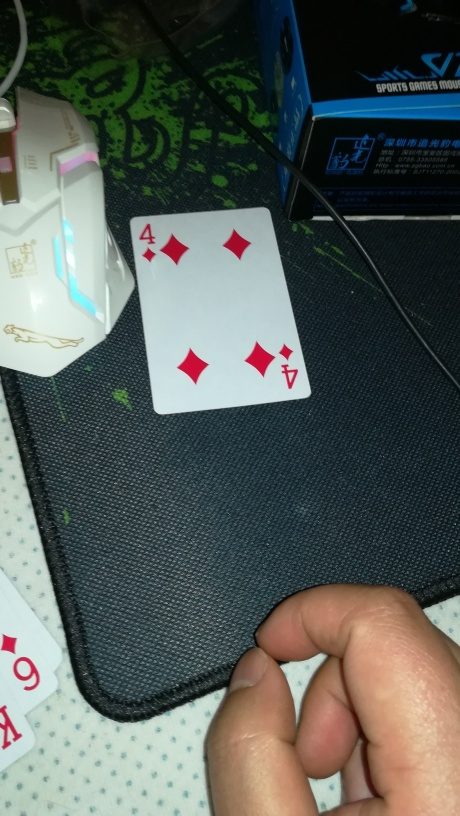fk 4: (129, 205, 316, 415)
